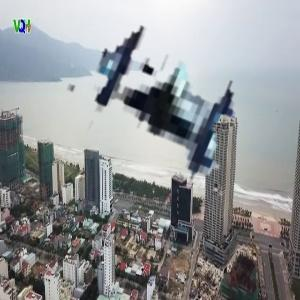drone: (7, 1, 295, 289)
